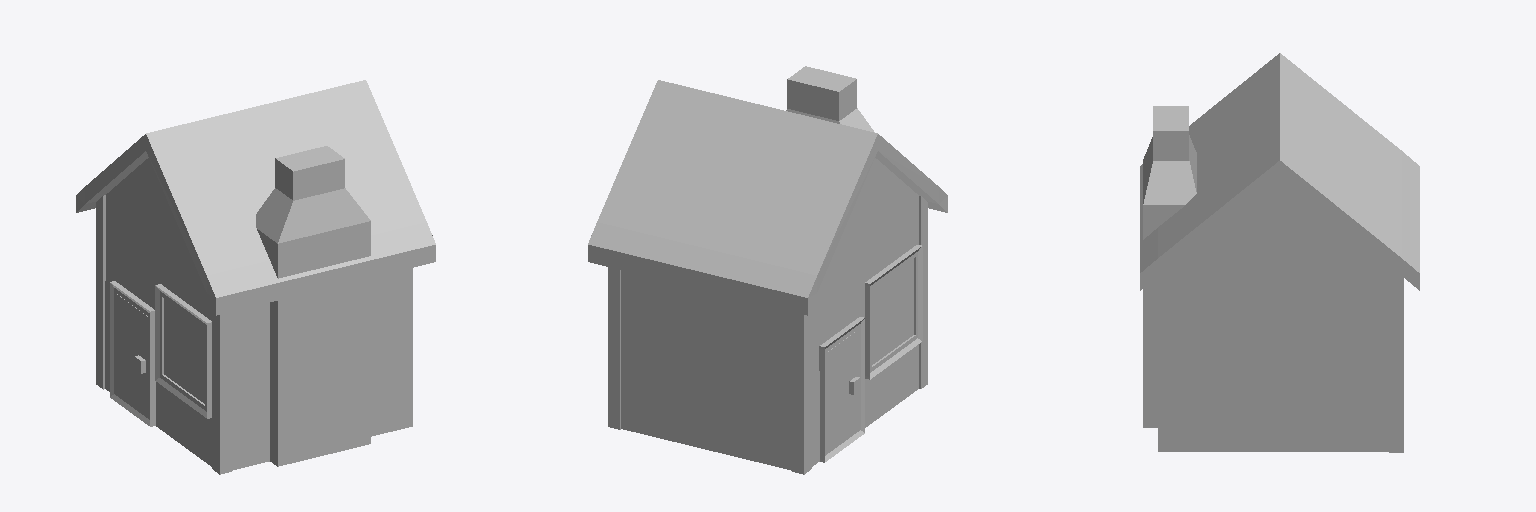
Rendered from house1.obj.
The picture shows the model from 3 angles: view 1: azimuth 30°, elevation 25°; view 2: azimuth 150°, elevation 25°; view 3: azimuth 270°, elevation 25°; orthographic projection.
Visible parts, largest first — view 1: Cube.018; view 2: Cube.018; view 3: Cube.018.
Part boxes in pixels (x1,y1,x2,y2): Cube.018: (76,80,435,474); Cube.018: (588,66,947,474); Cube.018: (1140,53,1419,452).
Bounding box in the file's own units: 4.72 × 6.11 × 5.19.